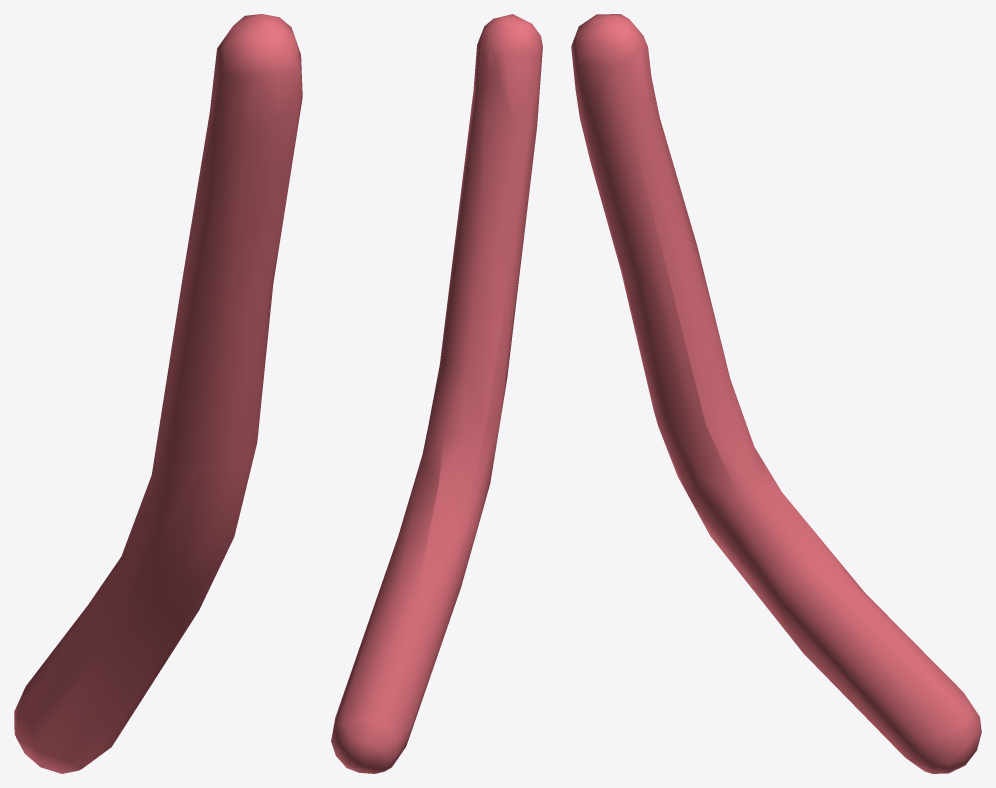
The model's file is fma76647_fj1844.glb.
The picture shows the model from 3 angles, left to right: view 1: azimuth 30°, elevation 25°; view 2: azimuth 150°, elevation 25°; view 3: azimuth 270°, elevation 25°; orthographic projection. The views are drawn at different scales.
Visible parts, largest first — view 1: FMA76647_FJ1844; view 2: FMA76647_FJ1844; view 3: FMA76647_FJ1844.
Part boxes in pixels (<box>): FMA76647_FJ1844: <box>14,14,302,773</box>; FMA76647_FJ1844: <box>331,14,542,773</box>; FMA76647_FJ1844: <box>571,14,981,773</box>.
Bounding box in the file's own units: 0.00323 × 0.0296 × 0.0146.
